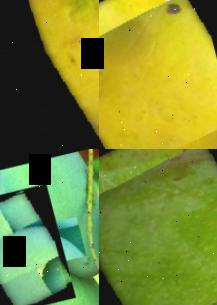Ripe: (99, 0, 217, 149), (3, 0, 99, 149)
Unripe: (99, 149, 217, 305), (0, 187, 68, 305)
